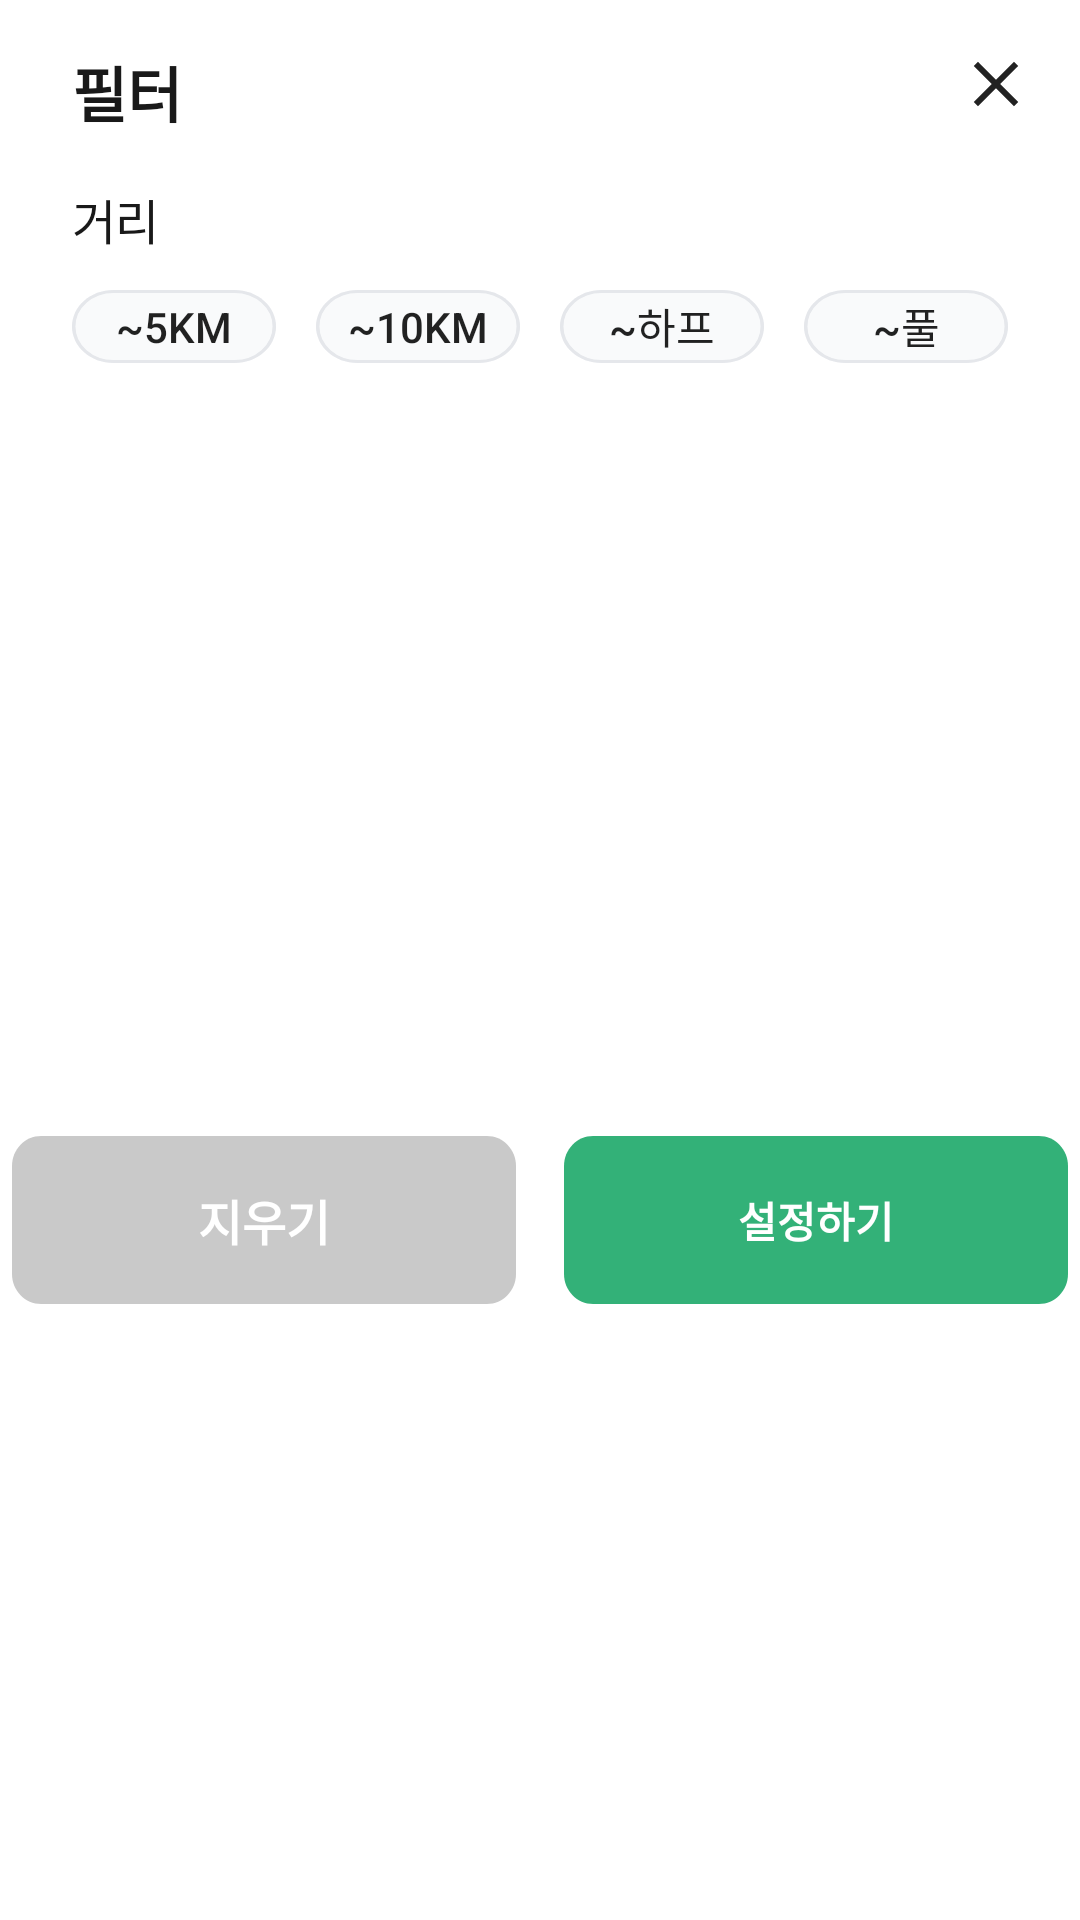

Icons on this 1080px x 1920px Android screen, each with its box as [x1,y1,x2,y2]:
all close: [974,62,1018,106]
